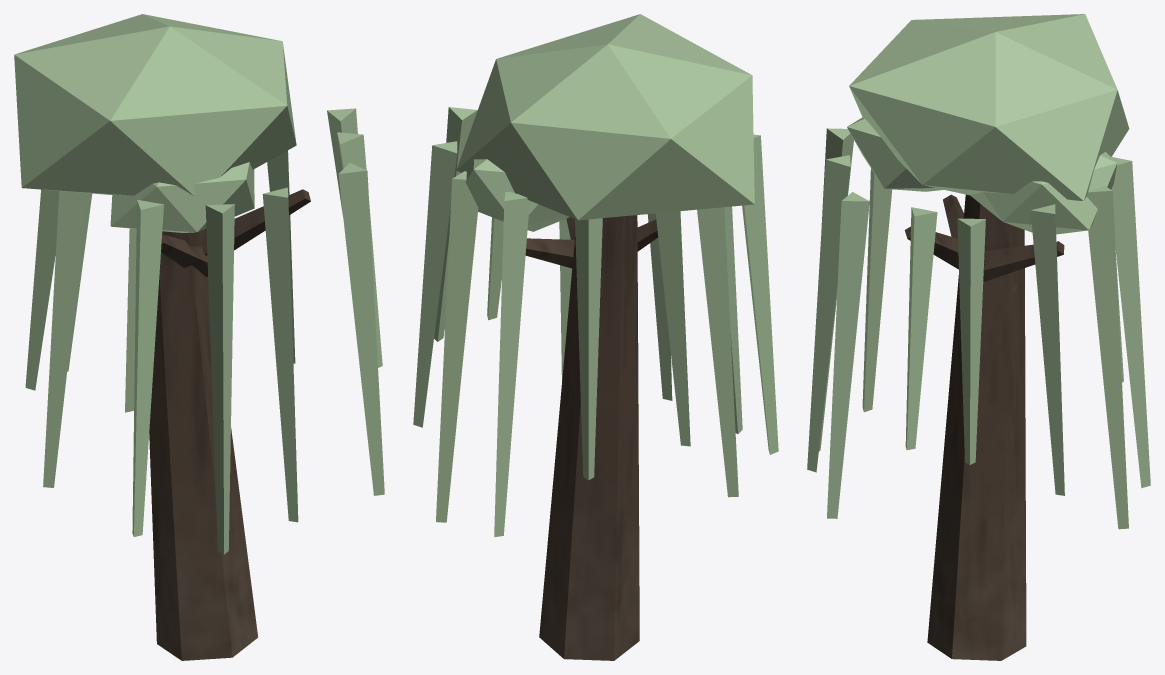
The model's file is arv_salgueiro_2.glb.
3 views of the same model, side by side, from view 1: azimuth 30°, elevation 25°; view 2: azimuth 150°, elevation 25°; view 3: azimuth 270°, elevation 25° (orthographic). The views are drawn at different scales.
Parts seen in each view (by area): view 1: arv_salgueiro_2; view 2: arv_salgueiro_2; view 3: arv_salgueiro_2.
Part boxes in pixels (x1,y1,x2,y2): arv_salgueiro_2: (14, 14, 384, 660); arv_salgueiro_2: (413, 14, 778, 660); arv_salgueiro_2: (807, 14, 1150, 660).
Size of the model in its own units: 0.9225 by 1.61 by 0.8326.
Materials: 2 (1 with a texture image).
